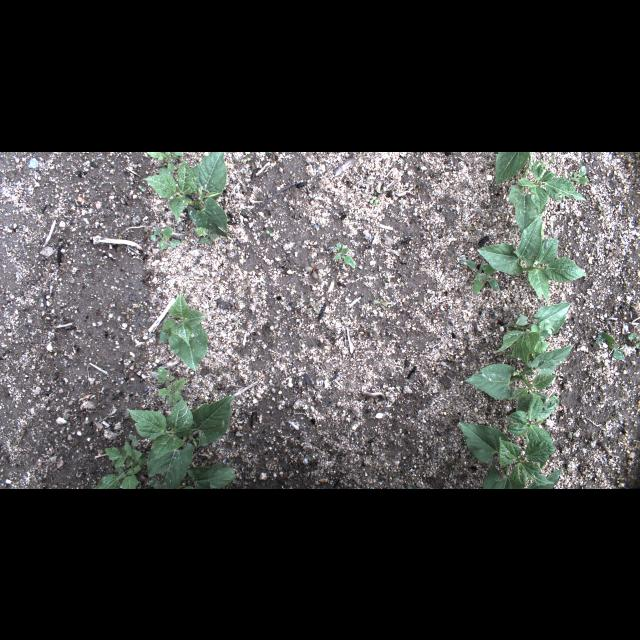crop: (128, 396, 235, 484), (477, 218, 587, 302), (146, 151, 228, 239), (462, 346, 574, 408), (460, 422, 564, 488), (508, 151, 582, 231), (493, 300, 573, 362), (159, 293, 209, 372), (141, 462, 237, 488), (508, 396, 560, 442), (494, 152, 532, 186)
weed: (94, 434, 146, 488), (458, 260, 498, 294), (157, 366, 186, 406), (594, 330, 624, 360), (148, 151, 184, 173), (150, 226, 180, 252), (334, 242, 356, 270), (194, 226, 214, 246), (568, 164, 588, 182), (306, 262, 326, 278), (626, 333, 640, 351), (307, 301, 321, 315), (372, 298, 388, 306), (369, 194, 378, 206)
